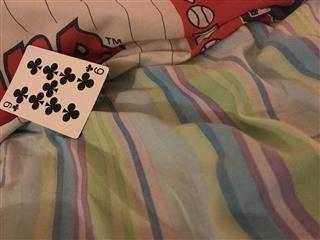NineOfClubs: (1, 44, 109, 139)
